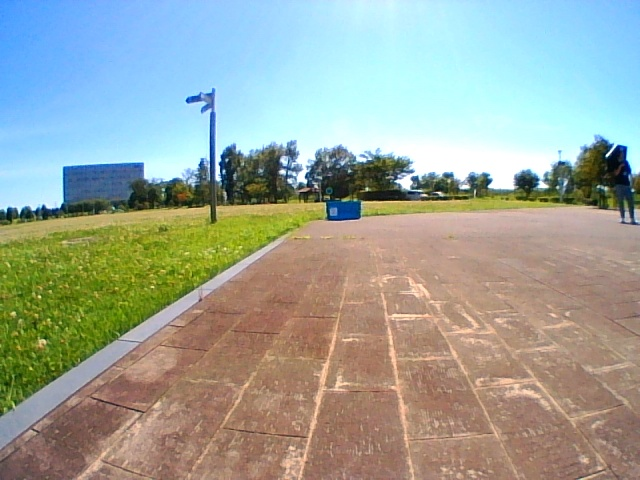blue_box: (326, 200, 359, 220)
tag: (329, 207, 337, 215)
